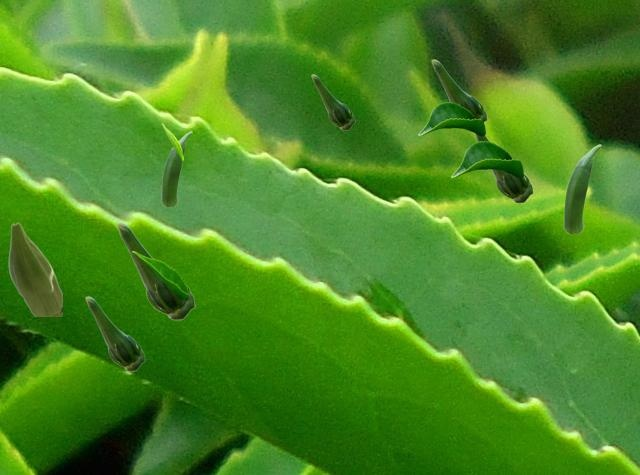okra: (116, 222, 194, 319), (8, 222, 61, 315), (85, 296, 144, 370), (474, 134, 532, 202), (431, 59, 486, 122), (563, 144, 600, 232), (311, 74, 354, 129), (161, 131, 191, 205)
